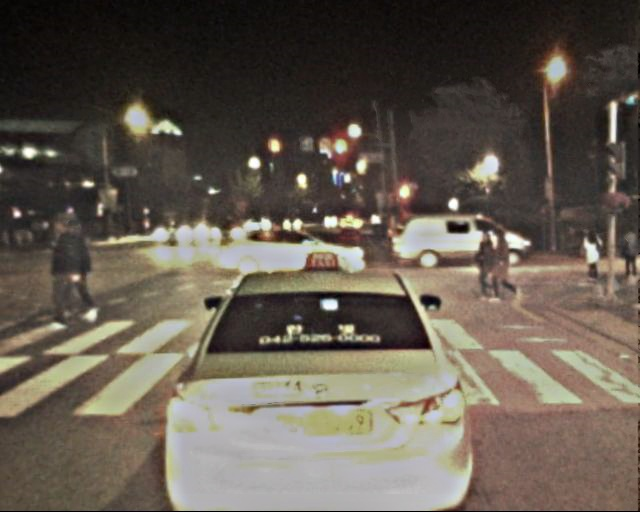person: (51, 211, 101, 333), (487, 229, 517, 303), (472, 231, 501, 301), (579, 229, 602, 286), (618, 225, 640, 283)
